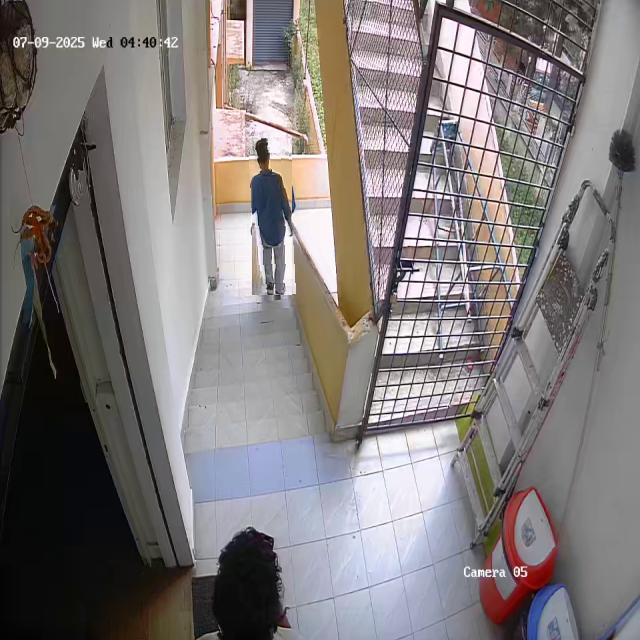person: (250, 138, 294, 295)
